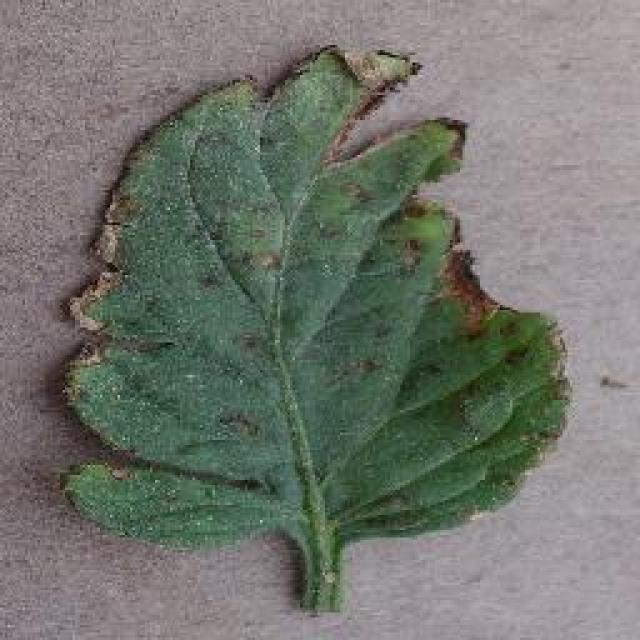bacterial spot: (54, 42, 569, 610)
